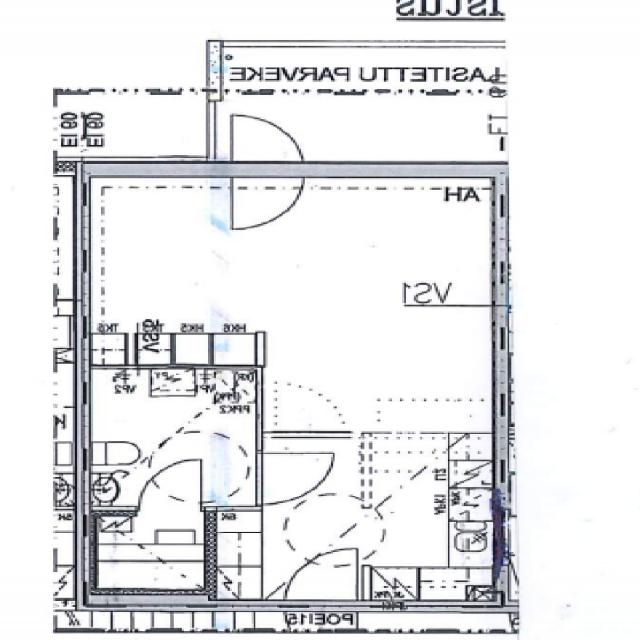door: (232, 161, 304, 229), (232, 109, 304, 177), (286, 548, 358, 612), (255, 454, 332, 503), (140, 462, 201, 516), (286, 600, 358, 640)
